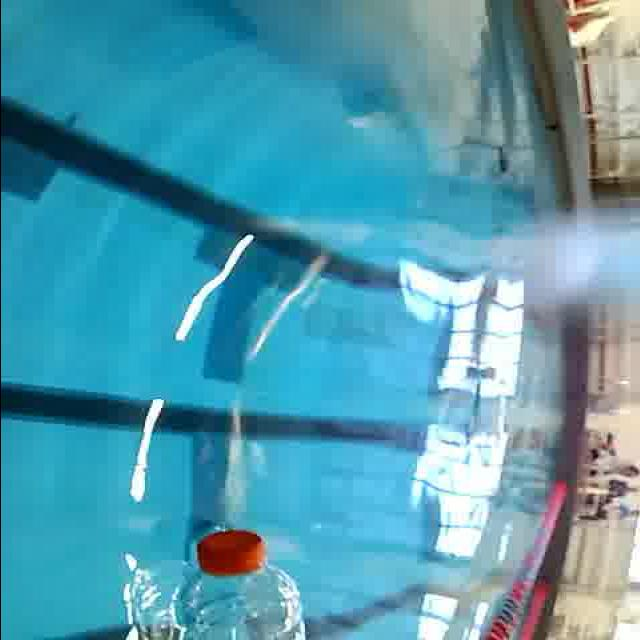Bottle: (174, 521, 314, 640)
